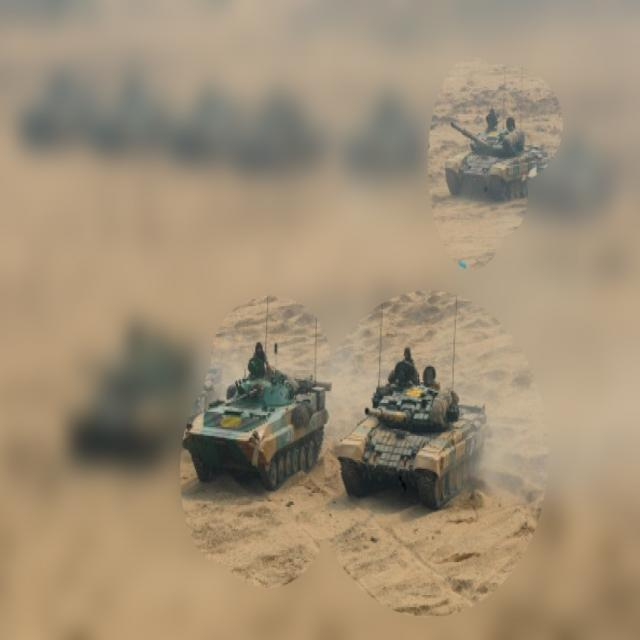tank: (334, 342, 489, 512), (182, 332, 331, 493), (443, 101, 553, 204)
